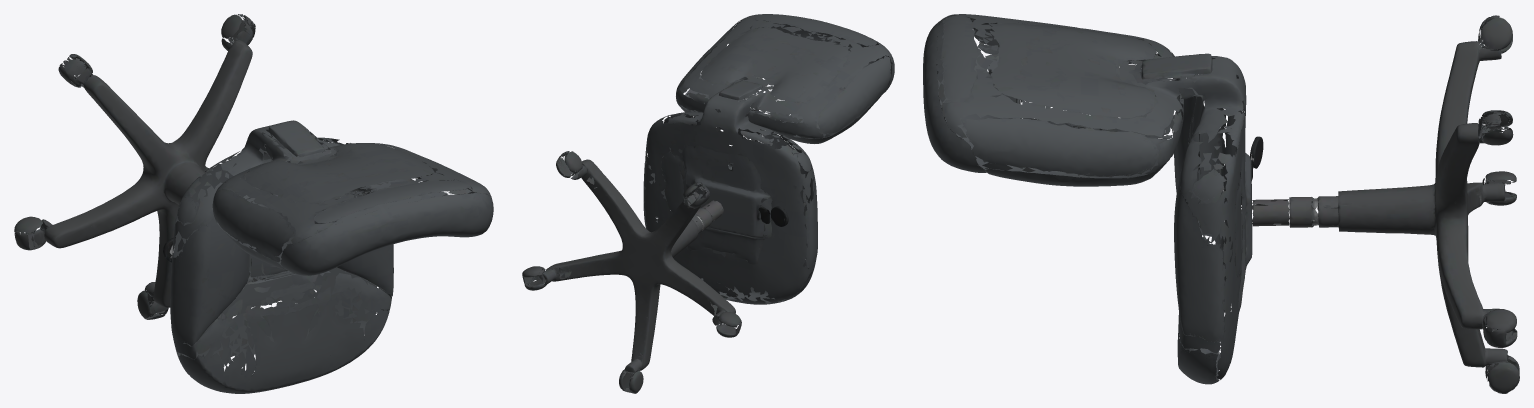
File: trellis2.glb
3 views of the same model, side by side, from view 1: azimuth 30°, elevation 25°; view 2: azimuth 150°, elevation 25°; view 3: azimuth 270°, elevation 25° (orthographic). The views are drawn at different scales.
Parts seen in each view (by area): view 1: world; view 2: world; view 3: world.
Boxes of the visible parts, left/top/right/bottom form: world: left=14, top=14, right=493, bottom=393; world: left=522, top=14, right=894, bottom=393; world: left=923, top=14, right=1519, bottom=393.
Bounding box in the file's own units: 0.6258 × 0.6393 × 1.01.
1 material, 1 textured.
